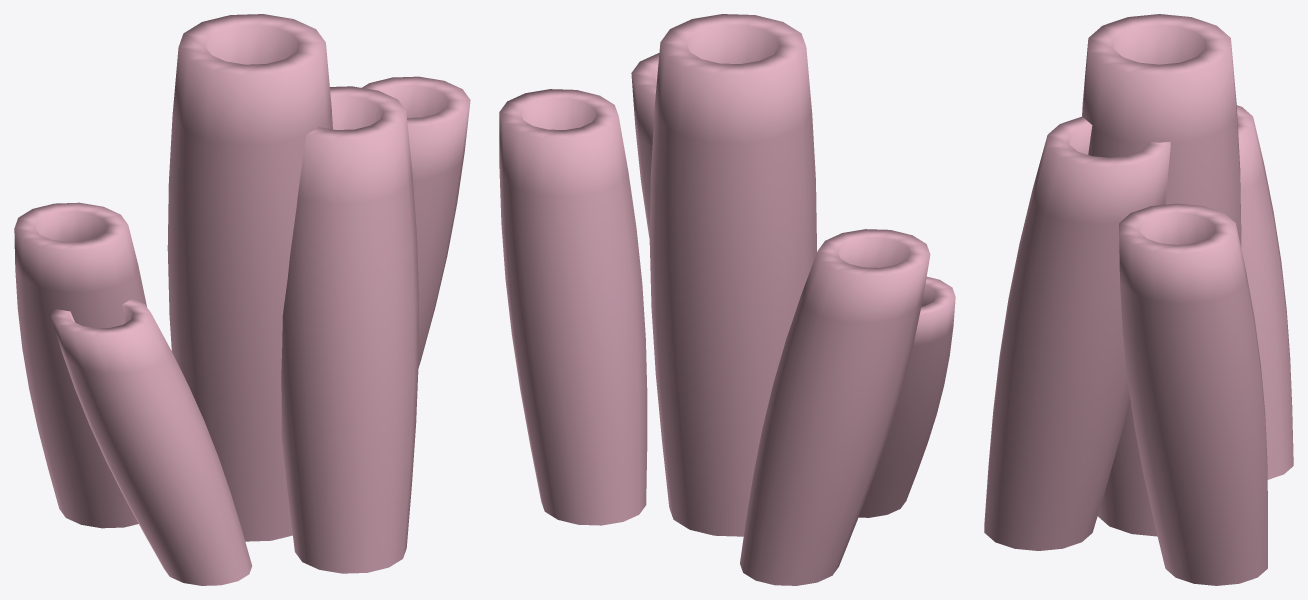
The model's file is tube_sponge.glb.
The picture shows the model from 3 angles, left to right: view 1: azimuth 30°, elevation 25°; view 2: azimuth 150°, elevation 25°; view 3: azimuth 270°, elevation 25°; orthographic projection.
Visible parts, largest first — view 1: TubeSponge_Cluster; view 2: TubeSponge_Cluster; view 3: TubeSponge_Cluster.
Part boxes in pixels (x1=…): TubeSponge_Cluster: x1=14, y1=14, x2=470, y2=585; TubeSponge_Cluster: x1=499, y1=14, x2=955, y2=585; TubeSponge_Cluster: x1=984, y1=14, x2=1293, y2=585.
Size of the model in its own units: 0.6904 by 0.72 by 0.4339.
